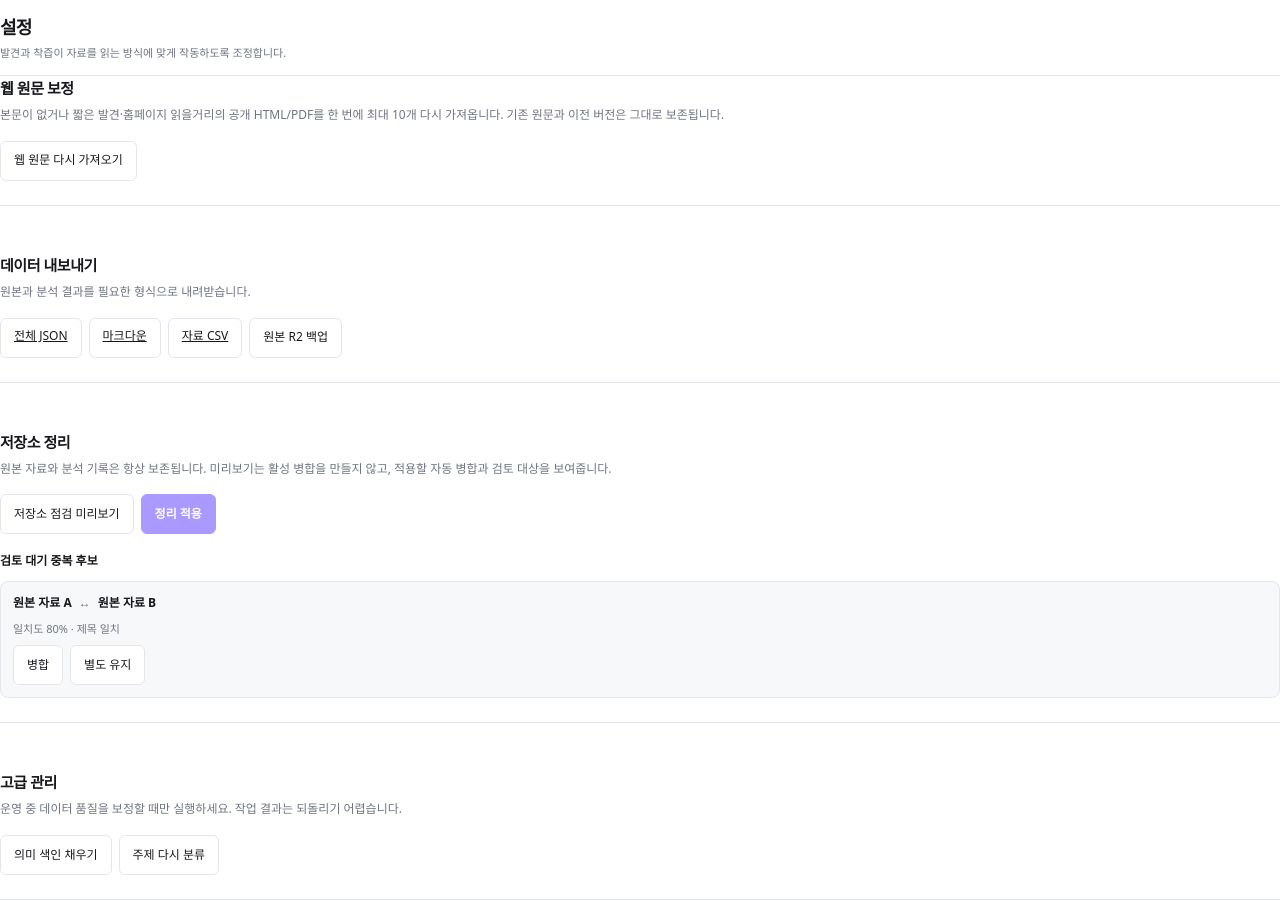
Test: SettingsView repository maintenance › resolves a pending candidate as separate
(page scrolled)
Click the button "별도 유지" at (108, 665), box [70,645,145,685]
(page scrolled)
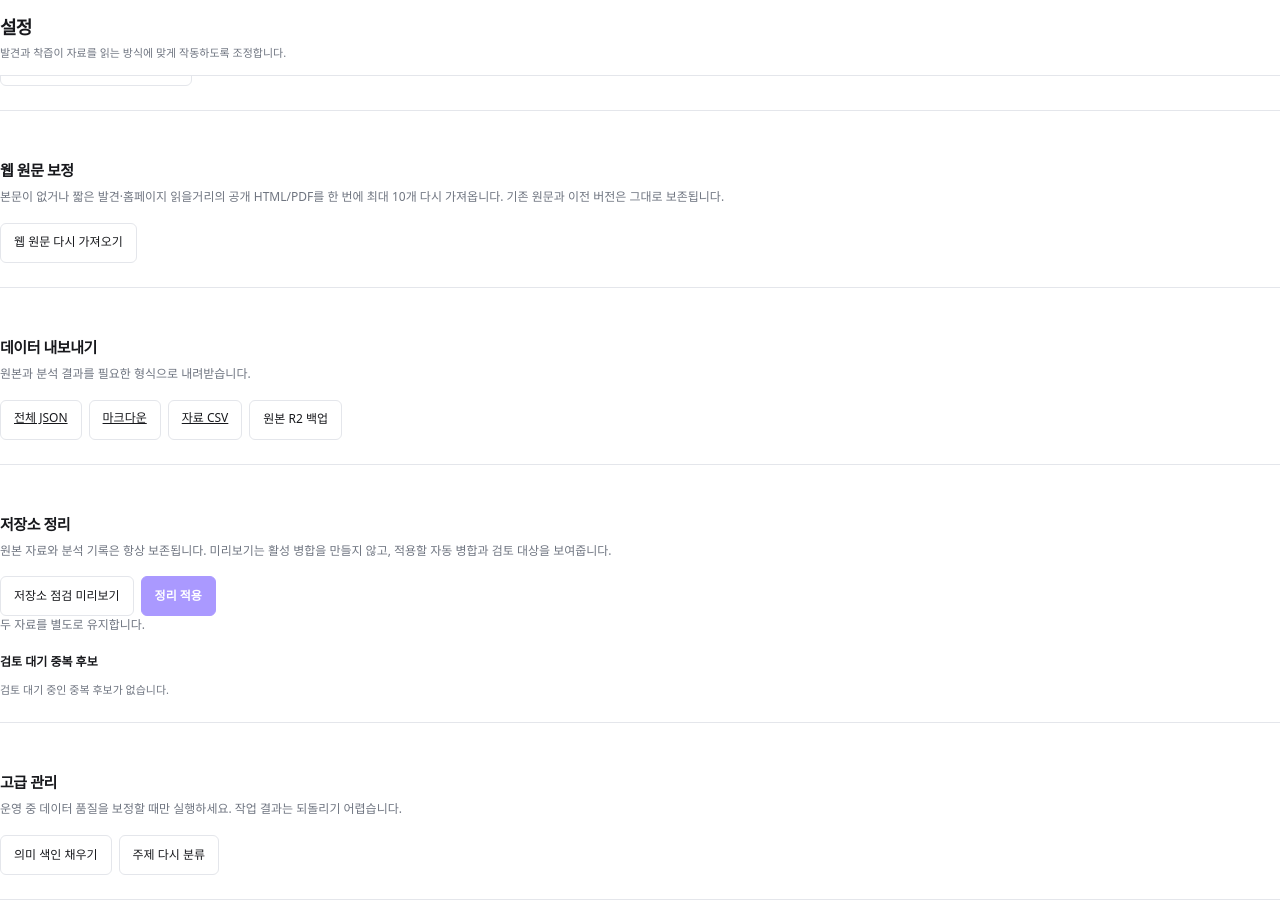
Now the text "원본 자료 A" is gone
